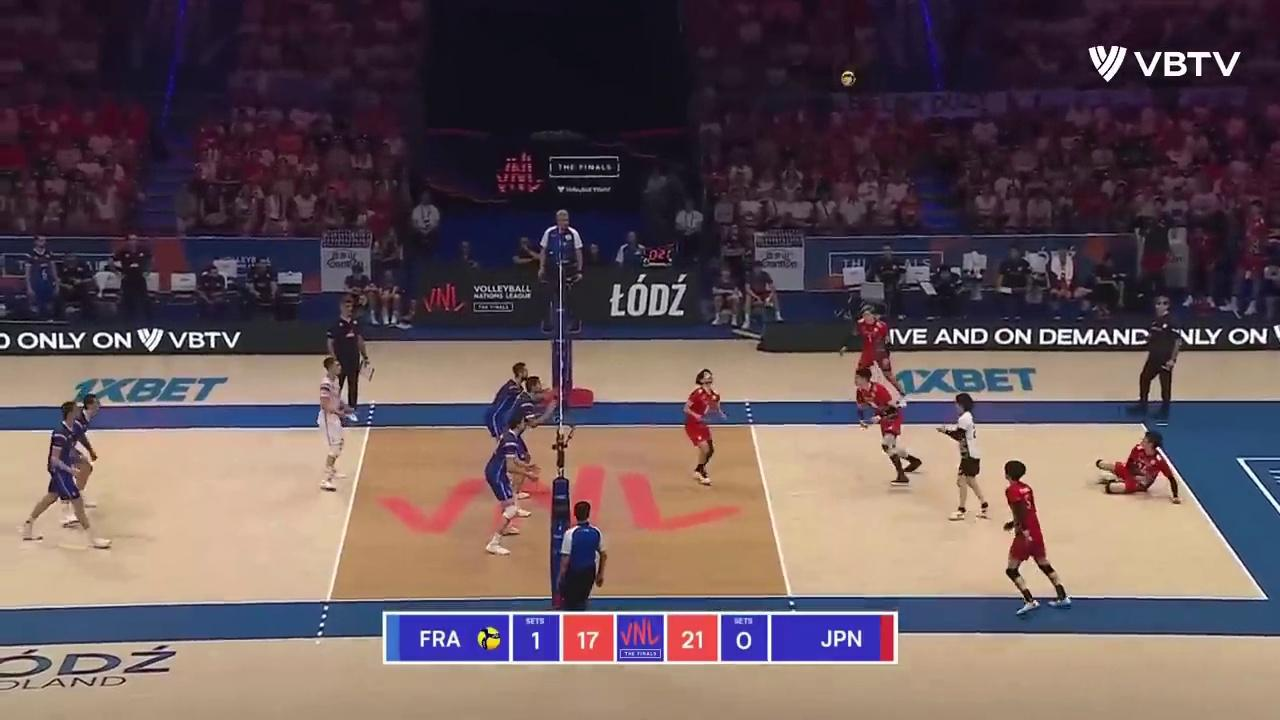ball: (841, 71, 856, 88)
